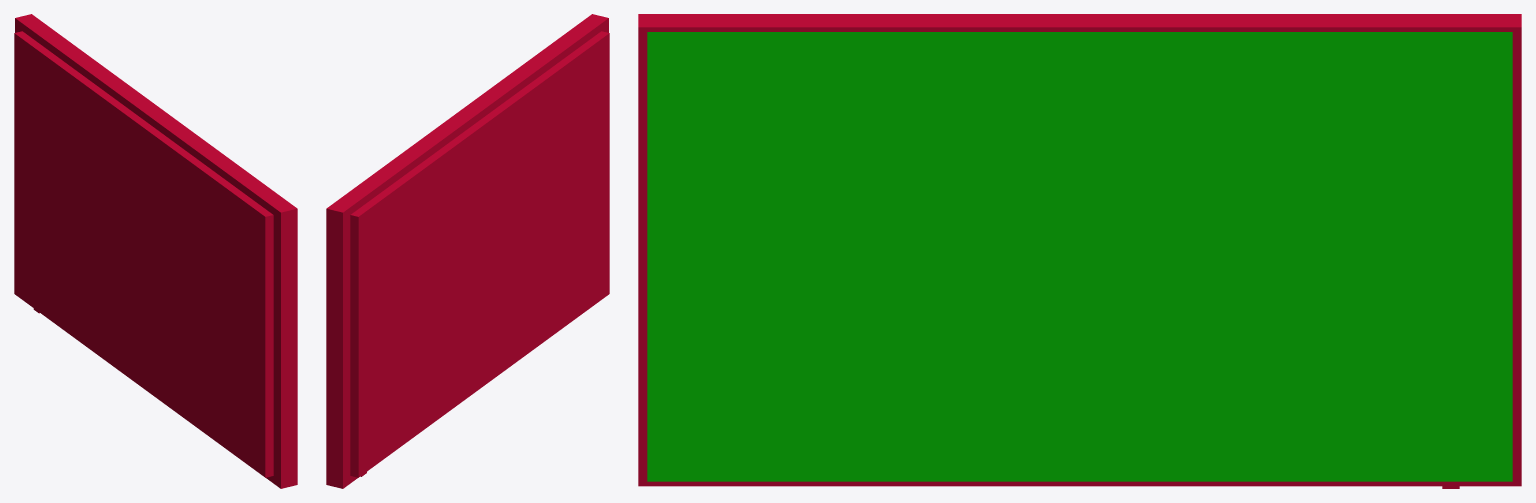
File: tv tela plana.fbx
3 renders of one model, left to right at view 1: azimuth 30°, elevation 25°; view 2: azimuth 150°, elevation 25°; view 3: azimuth 270°, elevation 25°, orthographic. The views are drawn at different scales.
Parts seen in each view (by area): view 1: Cube; view 2: Cube; view 3: Cube (×2).
Part boxes in pixels (x1,y1,x2,y2): Cube: (14,14,297,488); Cube: (326,14,609,488); Cube (×2): (638,14,1521,488).
Bounding box in the file's own units: 5.99 × 64.4 × 112.
